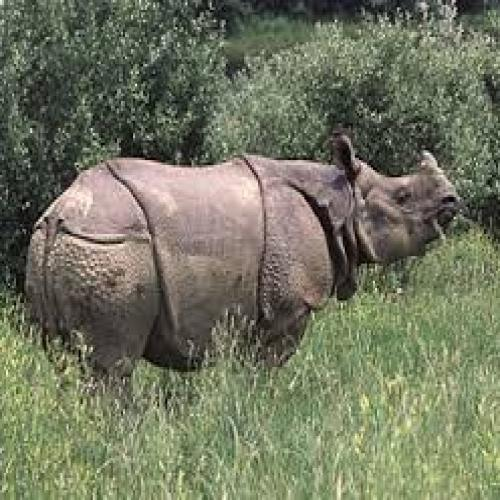rhino-endangered: (6, 113, 475, 412)
